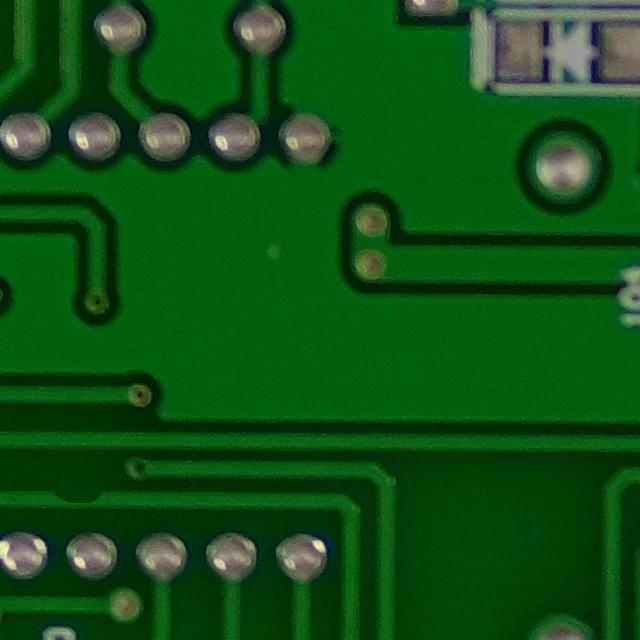mouse_bite: (39, 477, 118, 519)
